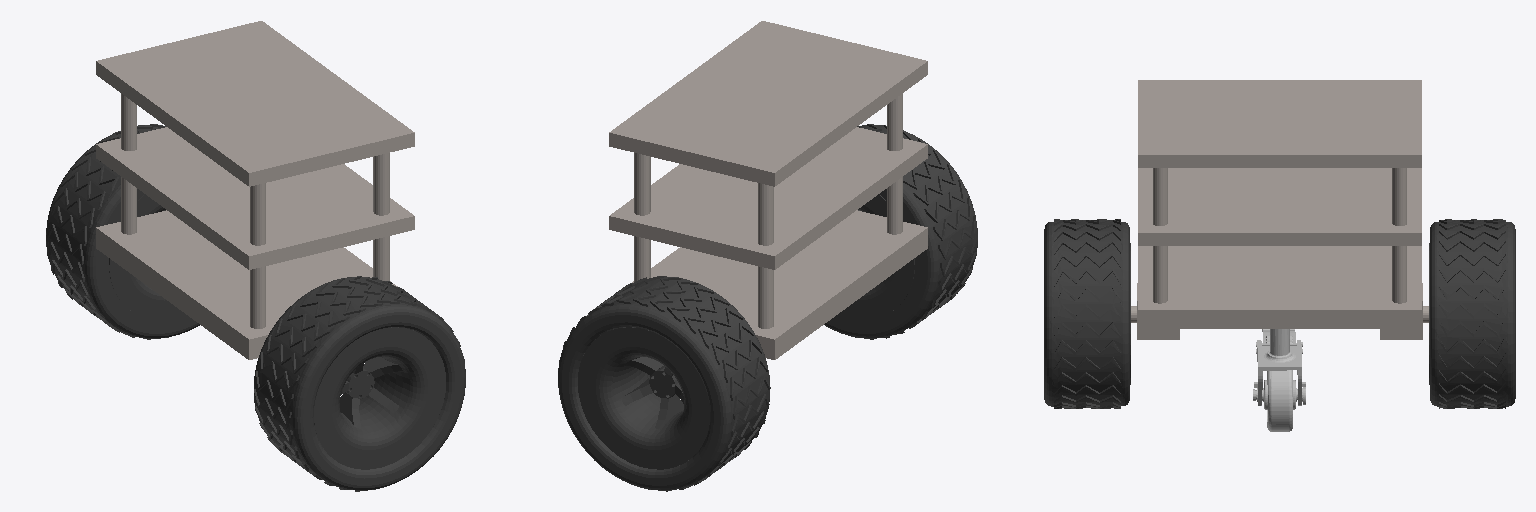
robot.urdf — two_wheeler_bot:
<?xml version="1.0" encoding="utf-8"?>
<!-- This URDF was automatically created by SolidWorks to URDF Exporter! Originally created by [author] ([email redacted]) 
     Commit Version: 1.6.0-1-g15f4949  Build Version: 1.6.7594.29634
     For more information, please see http://wiki.ros.org/sw_urdf_exporter -->
<robot
  name="two_wheeler_bot">
  <link
    name="base_link">
    <inertial>
      <origin
        xyz="-8.9818E-06 -1.1102E-16 0.081208"
        rpy="0 0 0" />
      <mass
        value="33.215" />
      <inertia
        ixx="0.41128"
        ixy="-3.3206E-17"
        ixz="-2.2526E-05"
        iyy="0.16225"
        iyz="1.4038E-18"
        izz="0.56846" />
    </inertial>
    <visual>
      <origin
        xyz="0 0 0"
        rpy="0 0 0" />
      <geometry>
        <mesh
          filename="package://two_wheeler_bot/meshes/base_link.STL" />
      </geometry>
      <material
        name="">
        <color
          rgba="0.68627 0.65882 0.63922 1" />
      </material>
    </visual>
    <collision>
      <origin
        xyz="0 0 0"
        rpy="0 0 0" />
      <geometry>
        <mesh
          filename="package://two_wheeler_bot/meshes/base_link.STL" />
      </geometry>
    </collision>
  </link>
  <link
    name="lw_Link">
    <inertial>
      <origin
        xyz="-2.7357E-06 3.3017E-07 -0.0071869"
        rpy="0 0 0" />
      <mass
        value="4.809" />
      <inertia
        ixx="0.022657"
        ixy="2.6861E-10"
        ixz="-1.0213E-07"
        iyy="0.022657"
        iyz="1.2455E-08"
        izz="0.033315" />
    </inertial>
    <visual>
      <origin
        xyz="0 0 0"
        rpy="0 0 0" />
      <geometry>
        <mesh
          filename="package://two_wheeler_bot/meshes/lw_Link.STL" />
      </geometry>
      <material
        name="">
        <color
          rgba="0.29804 0.29804 0.29804 1" />
      </material>
    </visual>
    <collision>
      <origin
        xyz="0 0 0"
        rpy="0 0 0" />
      <geometry>
        <mesh
          filename="package://two_wheeler_bot/meshes/lw_Link.STL" />
      </geometry>
    </collision>
  </link>
  <joint
    name="lw_joint"
    type="continuous">
    <origin
      xyz="0.00080677 0.27524 -0.064"
      rpy="-1.5708 0 0" />
    <parent
      link="base_link" />
    <child
      link="lw_Link" />
    <axis
      xyz="0 0 -1" />
  </joint>
  <link
    name="rw_Link">
    <inertial>
      <origin
        xyz="2.0467E-06 1.8451E-06 0.0071869"
        rpy="0 0 0" />
      <mass
        value="4.809" />
      <inertia
        ixx="0.022657"
        ixy="-3.449E-09"
        ixz="-7.6334E-08"
        iyy="0.022657"
        iyz="-6.8986E-08"
        izz="0.033315" />
    </inertial>
    <visual>
      <origin
        xyz="0 0 0"
        rpy="0 0 0" />
      <geometry>
        <mesh
          filename="package://two_wheeler_bot/meshes/rw_Link.STL" />
      </geometry>
      <material
        name="">
        <color
          rgba="0.29804 0.29804 0.29804 1" />
      </material>
    </visual>
    <collision>
      <origin
        xyz="0 0 0"
        rpy="0 0 0" />
      <geometry>
        <mesh
          filename="package://two_wheeler_bot/meshes/rw_Link.STL" />
      </geometry>
    </collision>
  </link>
  <joint
    name="rw_joint"
    type="continuous">
    <origin
      xyz="0.00080677 -0.27524 -0.064"
      rpy="-1.5708 0 0" />
    <parent
      link="base_link" />
    <child
      link="rw_Link" />
    <axis
      xyz="0 0 -1" />
  </joint>
  <link
    name="cws_Link">
    <inertial>
      <origin
        xyz="-0.0039577 -0.00014669 -0.041094"
        rpy="0 0 0" />
      <mass
        value="1.586" />
      <inertia
        ixx="0.0015129"
        ixy="-9.0538E-06"
        ixz="-1.8122E-05"
        iyy="0.0020984"
        iyz="-1.2815E-07"
        izz="0.0013004" />
    </inertial>
    <visual>
      <origin
        xyz="0 0 0"
        rpy="0 0 0" />
      <geometry>
        <mesh
          filename="package://two_wheeler_bot/meshes/cws_Link.STL" />
      </geometry>
      <material
        name="">
        <color
          rgba="0.75294 0.75294 0.75294 1" />
      </material>
    </visual>
    <collision>
      <origin
        xyz="0 0 0"
        rpy="0 0 0" />
      <geometry>
        <mesh
          filename="package://two_wheeler_bot/meshes/cws_Link.STL" />
      </geometry>
    </collision>
  </link>
  <joint
    name="cws_joint"
    type="continuous">
    <origin
      xyz="0.10215 0 -0.082"
      rpy="0 0 0" />
    <parent
      link="base_link" />
    <child
      link="cws_Link" />
    <axis
      xyz="0 0 1" />
  </joint>
  <link
    name="lidar_Link">
    <inertial>
      <origin
        xyz="0.0095994 -3.2001E-05 0.030322"
        rpy="0 0 0" />
      <mass
        value="1.4546" />
      <inertia
        ixx="0.0012252"
        ixy="3.1265E-06"
        ixz="-3.1426E-05"
        iyy="0.0021631"
        iyz="1.0476E-07"
        izz="0.0025955" />
    </inertial>
    <visual>
      <origin
        xyz="0 0 0"
        rpy="0 0 0" />
      <geometry>
        <mesh
          filename="package://two_wheeler_bot/meshes/lidar_Link.STL" />
      </geometry>
      <material
        name="">
        <color
          rgba="0.75294 0.75294 0.75294 1" />
      </material>
    </visual>
    <collision>
      <origin
        xyz="0 0 0"
        rpy="0 0 0" />
      <geometry>
        <mesh
          filename="package://two_wheeler_bot/meshes/lidar_Link.STL" />
      </geometry>
    </collision>
  </link>
  <joint
    name="lidar_joint"
    type="continuous">
    <origin
      xyz="0 0 0.24"
      rpy="0 0 0" />
    <parent
      link="base_link" />
    <child
      link="lidar_Link" />
    <axis
      xyz="0 0 -1" />
  </joint>
</robot>

--- Render facts (derived) ---
Views: 3 orthographic renders of the robot side by side, from view 1: azimuth 30°, elevation 25°; view 2: azimuth 150°, elevation 25°; view 3: azimuth 270°, elevation 25°.
Robot: two_wheeler_bot — 5 links, 4 joints (4 continuous); root link base_link; default pose: every joint at zero.
Links seen in each view (by area): view 1: base_link, rw_Link, lw_Link; view 2: base_link, lw_Link, rw_Link; view 3: base_link, rw_Link, lw_Link, cws_Link.
Link boxes in pixels (bbox=[...]): base_link: bbox=[96, 21, 414, 359]; rw_Link: bbox=[254, 276, 465, 491]; lw_Link: bbox=[46, 124, 199, 339]; base_link: bbox=[609, 21, 927, 359]; lw_Link: bbox=[558, 276, 770, 491]; rw_Link: bbox=[824, 124, 977, 339]; base_link: bbox=[1131, 80, 1428, 339]; rw_Link: bbox=[1044, 219, 1130, 408]; lw_Link: bbox=[1429, 219, 1515, 408]; cws_Link: bbox=[1253, 329, 1305, 431].
Bounding box of the posed robot: 0.2865 × 0.6619 × 0.437 m (x, y, z).
4 mesh visuals loaded from 5 distinct referenced files (4 binary STL); not drawn: 1 (reference not matched to a file when rendering).